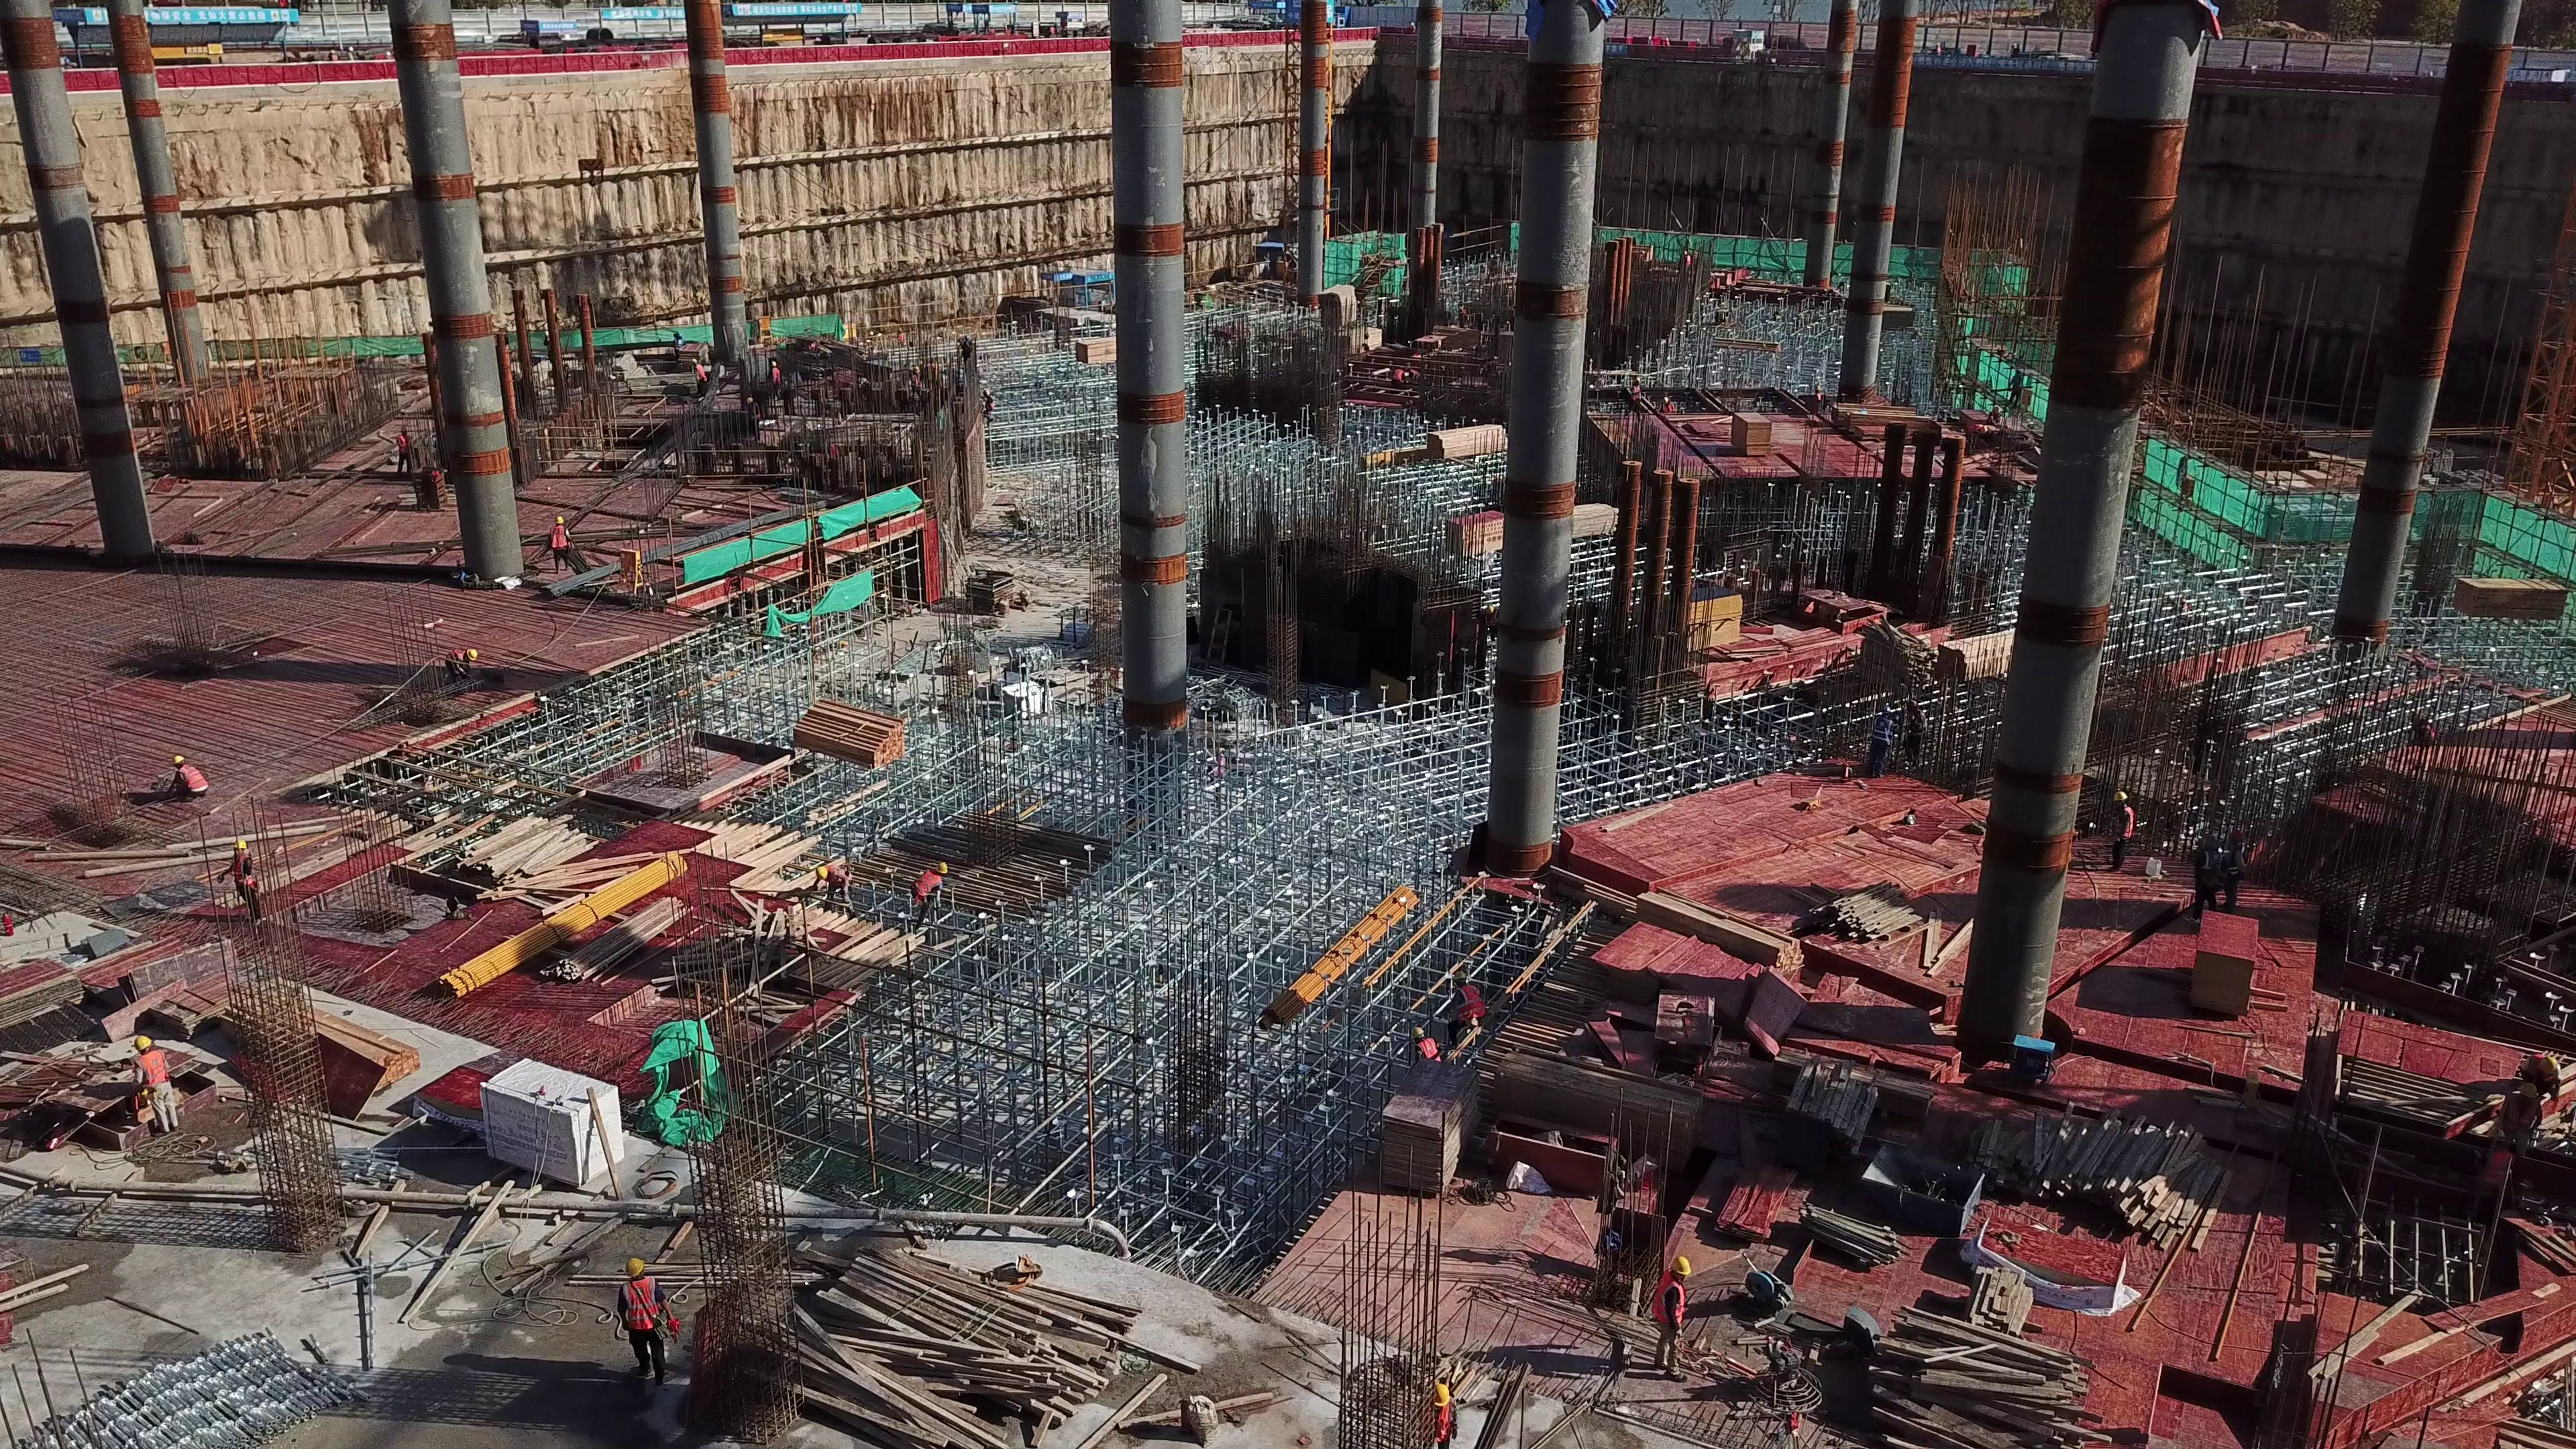board: (1505, 1040, 1717, 1151), (1619, 929, 1760, 1030), (1377, 1063, 1472, 1183), (2186, 913, 2255, 1022), (6, 967, 93, 1024), (1729, 407, 1778, 460), (1452, 511, 1503, 556)
cutter: (1741, 1261, 1795, 1314)
ebox: (615, 549, 643, 596)
fence: (1896, 21, 2576, 97), (708, 38, 1108, 83), (1601, 17, 1829, 72), (60, 60, 415, 93), (464, 45, 693, 76), (1175, 24, 1399, 50), (1430, 7, 1517, 50)
helmet: (1426, 1379, 1450, 1402), (620, 1255, 644, 1274), (1676, 1256, 1691, 1277), (131, 1034, 152, 1050), (816, 865, 830, 883), (1452, 971, 1468, 983), (2110, 792, 2127, 805), (168, 751, 185, 763), (1408, 1028, 1427, 1039), (468, 647, 478, 663), (934, 861, 945, 871), (229, 841, 245, 850), (553, 515, 564, 526)
person: (611, 1258, 670, 1377), (128, 1036, 177, 1137), (1652, 1252, 1686, 1375), (1412, 1383, 1460, 1448), (1442, 964, 1483, 1036), (221, 838, 257, 918), (906, 868, 953, 924), (162, 751, 210, 800), (1864, 705, 1896, 774), (811, 863, 851, 916), (2218, 831, 2246, 910), (1403, 1028, 1443, 1075), (2106, 790, 2133, 867), (2193, 834, 2212, 914), (437, 645, 472, 687), (545, 519, 572, 572), (392, 429, 412, 478), (763, 358, 780, 393)
scaffold: (51, 1330, 350, 1449)
slogan: (733, 1, 855, 23), (594, 3, 683, 19)
vest: (612, 1275, 670, 1339), (1648, 1272, 1680, 1324), (910, 873, 947, 904), (137, 1051, 166, 1088), (231, 859, 262, 892), (1456, 988, 1483, 1024), (2116, 806, 2139, 844), (1409, 1038, 1445, 1061), (179, 767, 205, 794), (547, 526, 570, 554), (1871, 718, 1890, 745), (443, 649, 465, 663), (770, 369, 780, 384)
wood: (777, 1259, 1126, 1449), (1853, 1319, 2100, 1449), (2013, 1118, 2216, 1228), (1771, 1056, 1884, 1157), (444, 825, 599, 896), (793, 704, 906, 775), (1817, 890, 1929, 959)
